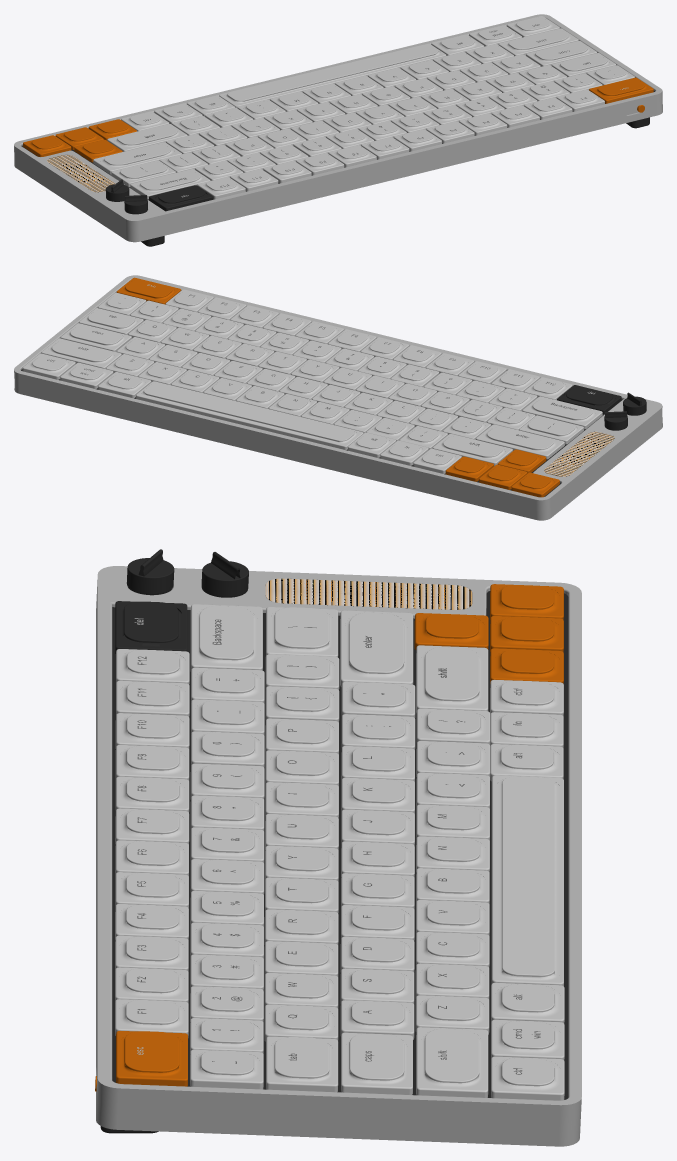
Rendered from Knob1_Mechanical_Keyboard_2024.glb.
3 views of the same model, one above another, from view 1: azimuth 30°, elevation 25°; view 2: azimuth 150°, elevation 25°; view 3: azimuth 270°, elevation 25° (orthographic). The views are drawn at different scales.
Visible parts, largest first — view 1: Object_1349_Metal (1)_0, Object_1148_Plastic (5)_0, Object_1330_Custom (1)_0, Object_1316_Plastic (5)_0, Object_1120_Plastic (5)_0, Object_1066_Plastic (5)_0, Object_1080_Plastic (5)_0, Object_1149_Plastic (5)_0, Object_1052_Plastic (5)_0, Object_1038_Plastic (5)_0, Object_1094_Plastic (5)_0, Object_1135_Plastic (3)_0 (+5 smaller); view 2: Object_1349_Metal (1)_0, Object_1148_Plastic (5)_0, Object_1149_Plastic (5)_0, Object_1330_Custom (1)_0, Object_1316_Plastic (5)_0, Object_1080_Plastic (5)_0, Object_1066_Plastic (5)_0, Object_1120_Plastic (5)_0, Object_1052_Plastic (5)_0, Object_1038_Plastic (5)_0, Object_1135_Plastic (3)_0, Object_1036_Plastic (2)_0 (+15 smaller); view 3: Object_1349_Metal (1)_0, Object_1148_Plastic (5)_0, Object_1329_Plastic (3)_0, Object_1330_Custom (1)_0, Object_1316_Plastic (5)_0, Object_1149_Plastic (5)_0, Object_1066_Plastic (5)_0, Object_1080_Plastic (5)_0, Object_1120_Plastic (5)_0, Object_1052_Plastic (5)_0, Object_1036_Plastic (2)_0, Object_1094_Plastic (5)_0 (+87 smaller).
Boxes of the visible parts, x1,y1,x2,y2 form: Object_1349_Metal (1)_0: (14,14,662,242); Object_1148_Plastic (5)_0: (227,44,437,101); Object_1330_Custom (1)_0: (47,155,115,192); Object_1316_Plastic (5)_0: (104,144,170,165); Object_1120_Plastic (5)_0: (140,171,199,190); Object_1066_Plastic (5)_0: (509,30,568,49); Object_1080_Plastic (5)_0: (117,126,177,145); Object_1149_Plastic (5)_0: (219,43,446,107); Object_1052_Plastic (5)_0: (535,42,587,60); Object_1038_Plastic (5)_0: (560,54,607,71); Object_1094_Plastic (5)_0: (120,162,166,178); Object_1135_Plastic (3)_0: (158,186,204,203); Object_1349_Metal (1)_0: (14,275,662,520); Object_1148_Plastic (5)_0: (144,383,354,441); Object_1149_Plastic (5)_0: (136,381,363,449); Object_1330_Custom (1)_0: (544,431,614,476); Object_1316_Plastic (5)_0: (487,427,553,449); Object_1080_Plastic (5)_0: (443,436,502,457); Object_1066_Plastic (5)_0: (52,340,111,361); Object_1120_Plastic (5)_0: (533,399,592,419); Object_1052_Plastic (5)_0: (70,325,122,344); Object_1038_Plastic (5)_0: (88,310,134,328); Object_1135_Plastic (3)_0: (566,387,612,405); Object_1036_Plastic (2)_0: (125,279,172,297); Object_1349_Metal (1)_0: (96,566,581,1146); Object_1148_Plastic (5)_0: (502,776,554,976); Object_1329_Plastic (3)_0: (112,591,568,1099); Object_1330_Custom (1)_0: (265,578,472,609); Object_1316_Plastic (5)_0: (349,612,404,673); Object_1149_Plastic (5)_0: (491,775,563,986); Object_1066_Plastic (5)_0: (425,1028,479,1083); Object_1080_Plastic (5)_0: (425,647,479,701); Object_1120_Plastic (5)_0: (199,605,253,660); Object_1052_Plastic (5)_0: (349,1033,404,1080); Object_1036_Plastic (2)_0: (124,1031,179,1072); Object_1094_Plastic (5)_0: (274,607,329,648).
Size of the model in its own units: 1.96 by 0.1505 by 0.7724.
8 materials, 1 textured.
